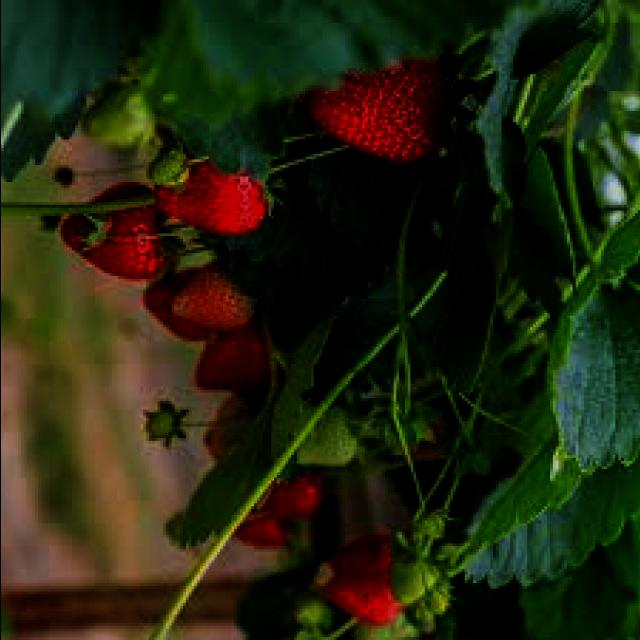ripe: (297, 35, 468, 166), (154, 143, 286, 244), (66, 180, 174, 278), (312, 525, 398, 636), (192, 324, 292, 400), (138, 278, 215, 342), (255, 467, 332, 522), (227, 509, 295, 552)
unripe: (166, 262, 258, 337), (78, 78, 162, 152), (288, 400, 367, 476), (137, 396, 186, 450), (142, 151, 198, 189)
